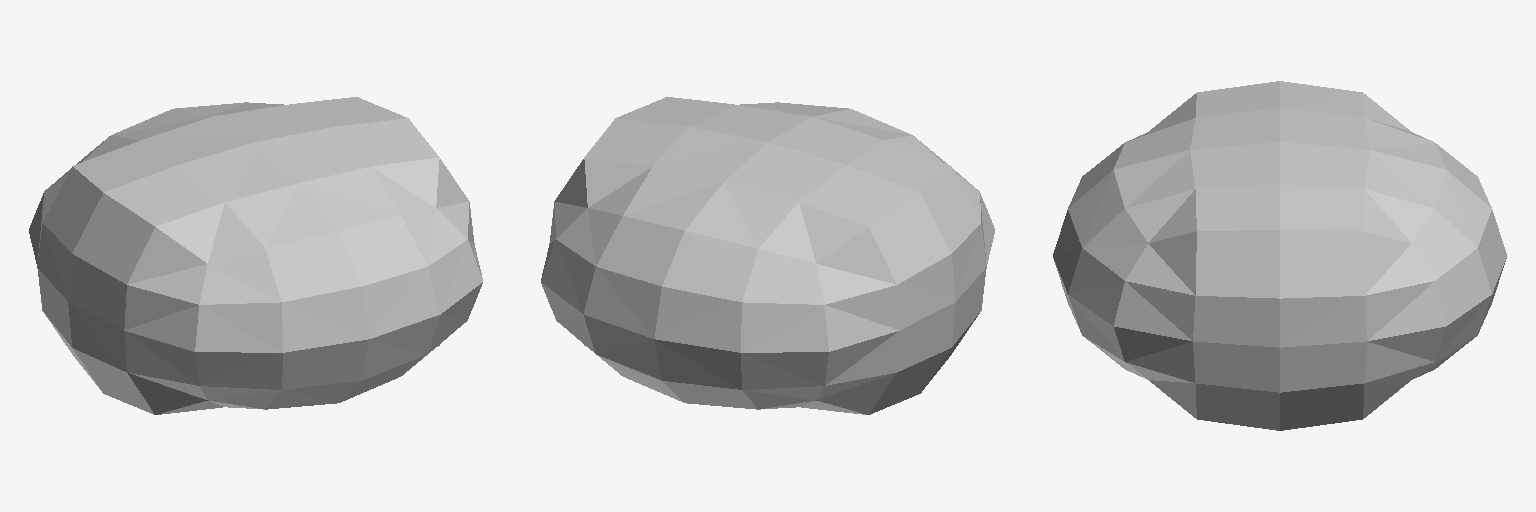
File: SingleLozenge.obj
3 views of the same model, side by side, from view 1: azimuth 30°, elevation 25°; view 2: azimuth 150°, elevation 25°; view 3: azimuth 270°, elevation 25° (orthographic).
Parts seen in each view (by area): view 1: DoubleLozenge_cube1; view 2: DoubleLozenge_cube1; view 3: DoubleLozenge_cube1.
Boxes of the visible parts, box(x1,y1,x2,y2) form: DoubleLozenge_cube1: box(29, 97, 482, 414); DoubleLozenge_cube1: box(541, 97, 994, 414); DoubleLozenge_cube1: box(1053, 81, 1506, 430).
Size of the model in its own units: 1.74 by 1.01 by 1.83.